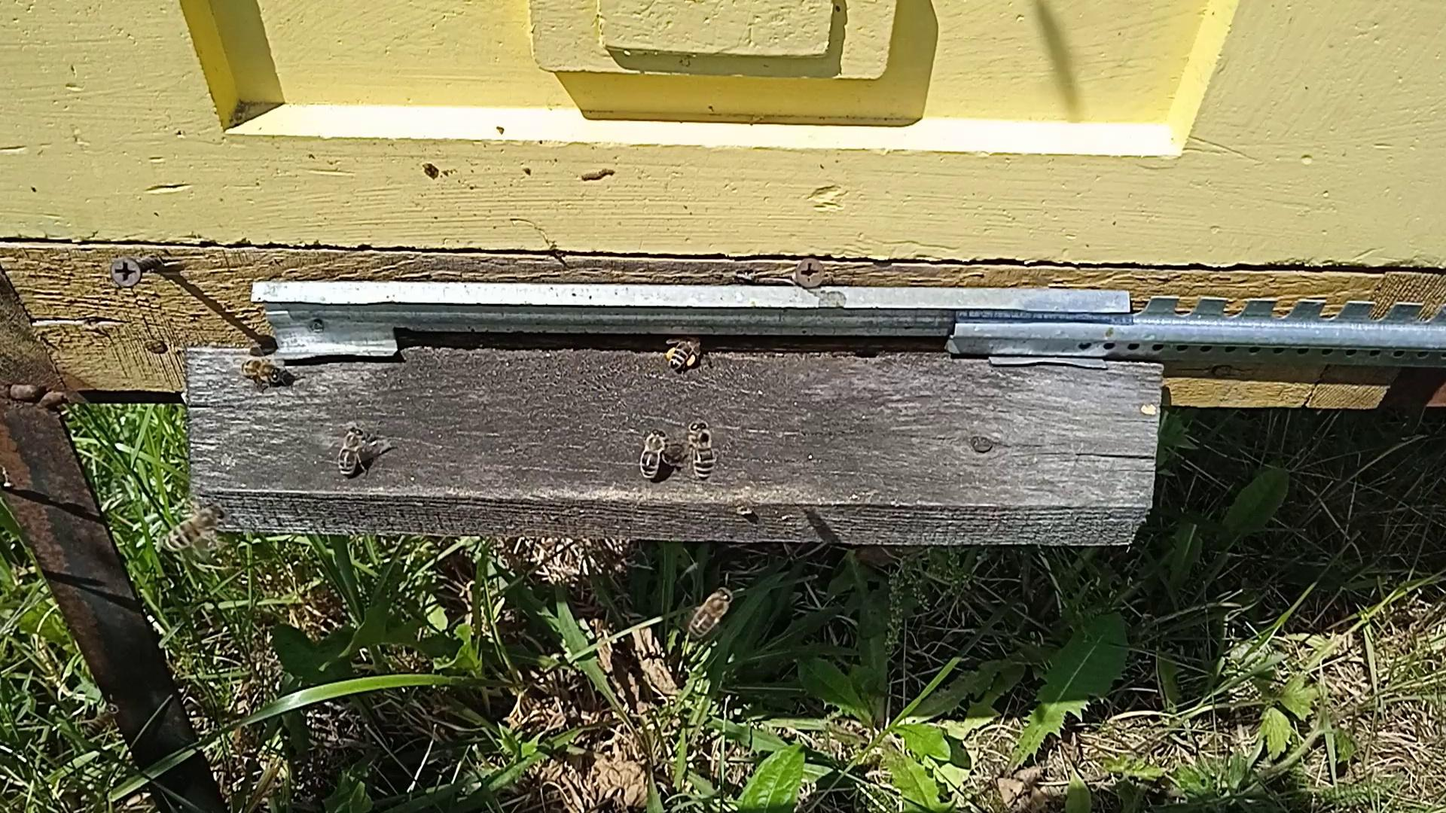worker-bee: (163, 504, 229, 551), (687, 585, 735, 638), (683, 417, 717, 485), (335, 425, 371, 477), (638, 426, 671, 480), (665, 335, 705, 372), (82, 702, 122, 739), (236, 357, 285, 386)
